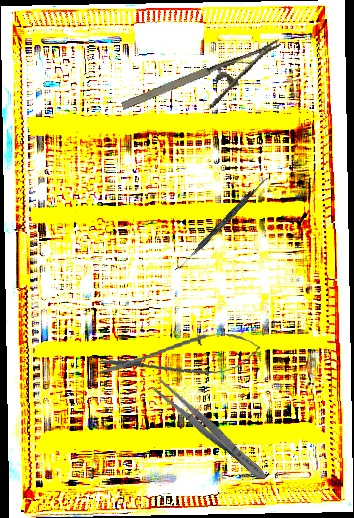Dressing Forceps: (149, 376, 271, 485)
Micro Scissor: (95, 327, 263, 388)
Needle Holder: (118, 39, 294, 137)
Spatula Surgical: (174, 174, 269, 275)
